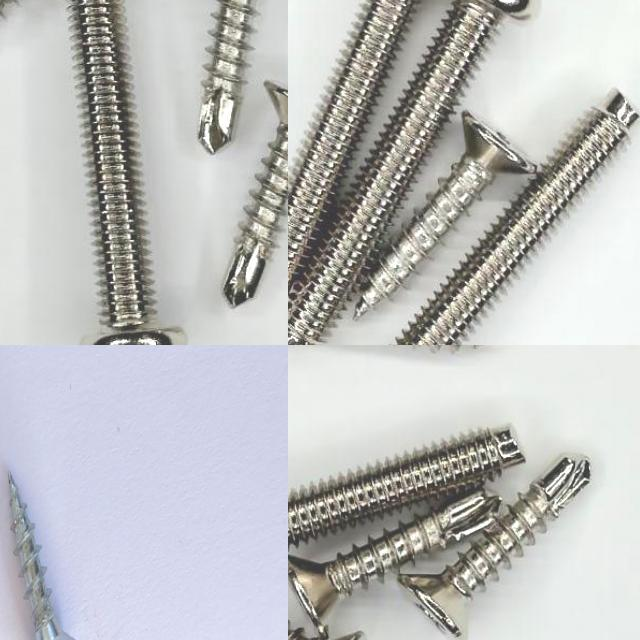Screw: (288, 0, 534, 345), (395, 92, 639, 345), (69, 0, 186, 345), (288, 0, 419, 291), (355, 111, 538, 318), (400, 457, 590, 638), (288, 492, 500, 636), (288, 428, 522, 545), (224, 81, 288, 307), (8, 471, 75, 640), (199, 0, 256, 154)
